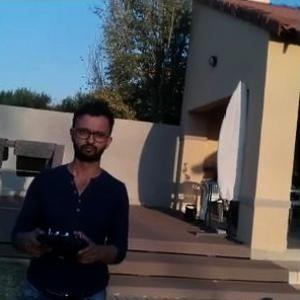follow: (10, 95, 140, 299)
